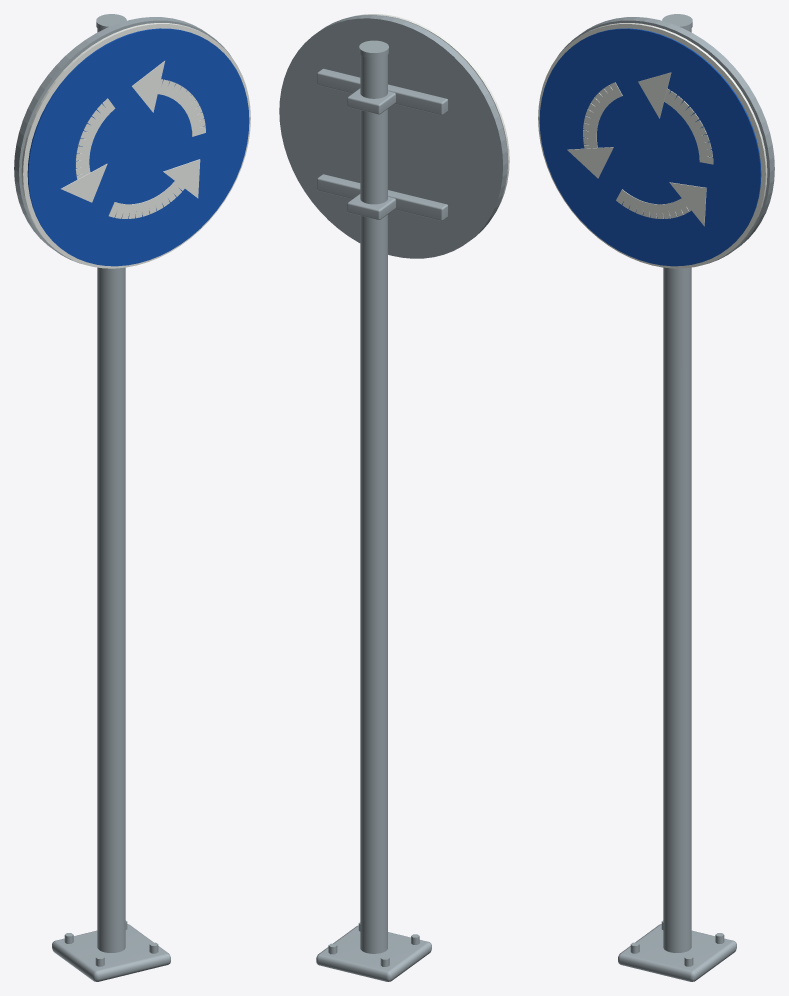
The model's file is DS_Sign_Roundabout.glb.
3 renders of one model, left to right at view 1: azimuth 30°, elevation 25°; view 2: azimuth 150°, elevation 25°; view 3: azimuth 330°, elevation 25°, orthographic. The views are drawn at different scales.
Visible parts, largest first — view 1: Face_Field.011, Post.011, BasePlate.011, Face_Border.011, Plate_Back.011, RoundaboutTip.001, RoundaboutTip, RoundaboutTip.002; view 2: Plate_Back.011, Post.011, BasePlate.011, RearRail.023, RearRail.022, PostClamp.023, PostClamp.022, Face_Border.011; view 3: Face_Field.011, Post.011, BasePlate.011, Face_Border.011, Plate_Back.011, RoundaboutTip.002, RoundaboutTip, RoundaboutTip.001.
Part boxes in pixels (box(x1,y1,x2,y2)): Face_Field.011: box(27, 28, 249, 266); Post.011: box(97, 28, 125, 952); BasePlate.011: box(52, 924, 170, 981); Face_Border.011: box(21, 23, 250, 268); Plate_Back.011: box(14, 17, 230, 263); RoundaboutTip.001: box(61, 163, 107, 202); RoundaboutTip: box(132, 61, 164, 112); RoundaboutTip.002: box(163, 159, 200, 198); Plate_Back.011: box(279, 15, 507, 258); Post.011: box(360, 55, 387, 953); BasePlate.011: box(316, 925, 431, 981); RearRail.023: box(317, 68, 448, 115); RearRail.022: box(317, 174, 448, 220); PostClamp.023: box(347, 88, 395, 114); PostClamp.022: box(347, 194, 395, 219); Face_Border.011: box(354, 14, 509, 212); Face_Field.011: box(539, 28, 761, 266); Post.011: box(663, 28, 691, 952); BasePlate.011: box(618, 924, 736, 981); Face_Border.011: box(538, 23, 767, 268); Plate_Back.011: box(558, 17, 774, 263); RoundaboutTip.002: box(669, 182, 706, 226); RoundaboutTip: box(638, 72, 671, 118); RoundaboutTip.001: box(567, 147, 613, 178).
Size of the model in its own units: 0.71 by 2.81 by 0.28.
